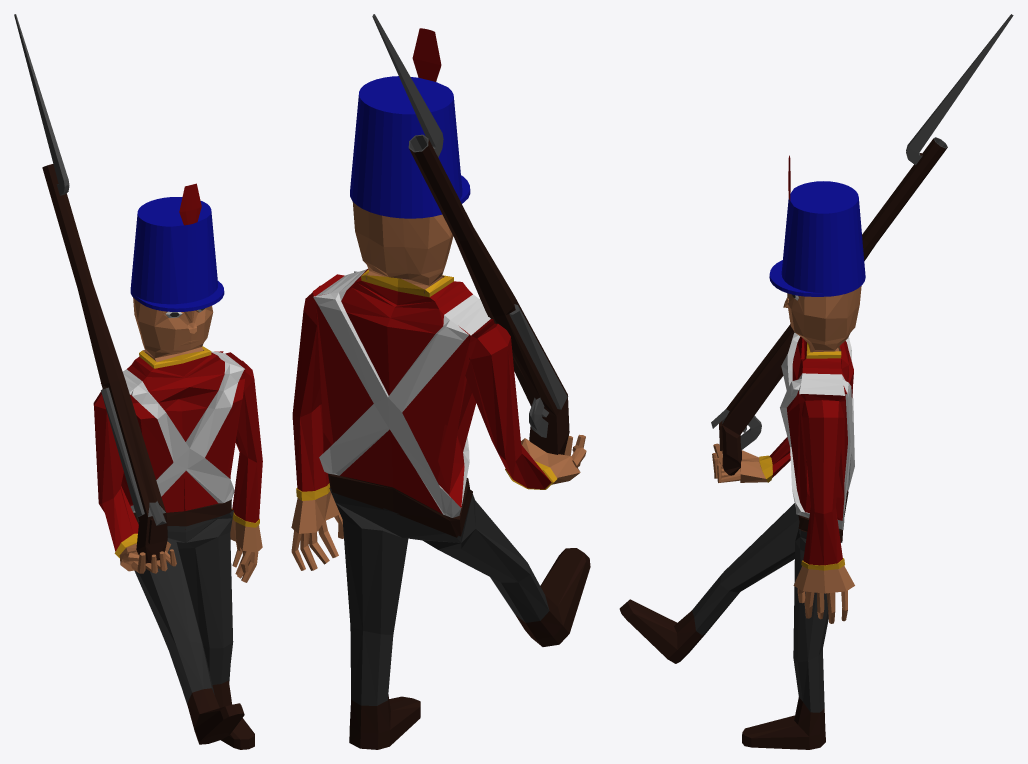
Rendered from Infantry_000175.obj.
The picture shows the model from 3 angles, left to right: view 1: azimuth 30°, elevation 25°; view 2: azimuth 150°, elevation 25°; view 3: azimuth 270°, elevation 25°; orthographic projection. The views are drawn at different scales.
Parts seen in each view (by area): view 1: {Man}_Circle, {Mesket}_Cube.001; view 2: {Man}_Circle, {Mesket}_Cube.001; view 3: {Man}_Circle, {Mesket}_Cube.001.
Boxes of the visible parts, box(x1,y1,x2,y2) form: {Man}_Circle: box(93, 183, 262, 749); {Mesket}_Cube.001: box(14, 14, 167, 563); {Man}_Circle: box(291, 28, 590, 749); {Mesket}_Cube.001: box(372, 14, 569, 454); {Man}_Circle: box(619, 155, 865, 749); {Mesket}_Cube.001: box(711, 14, 1013, 475).
Bounding box in the file's own units: 5.63 × 19.62 × 10.33.
